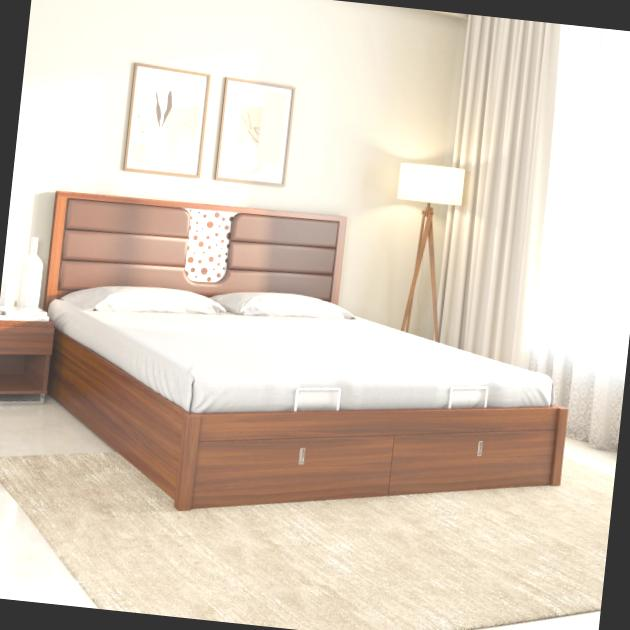bed: (48, 329, 567, 510), (46, 192, 346, 307), (352, 290, 356, 308)
